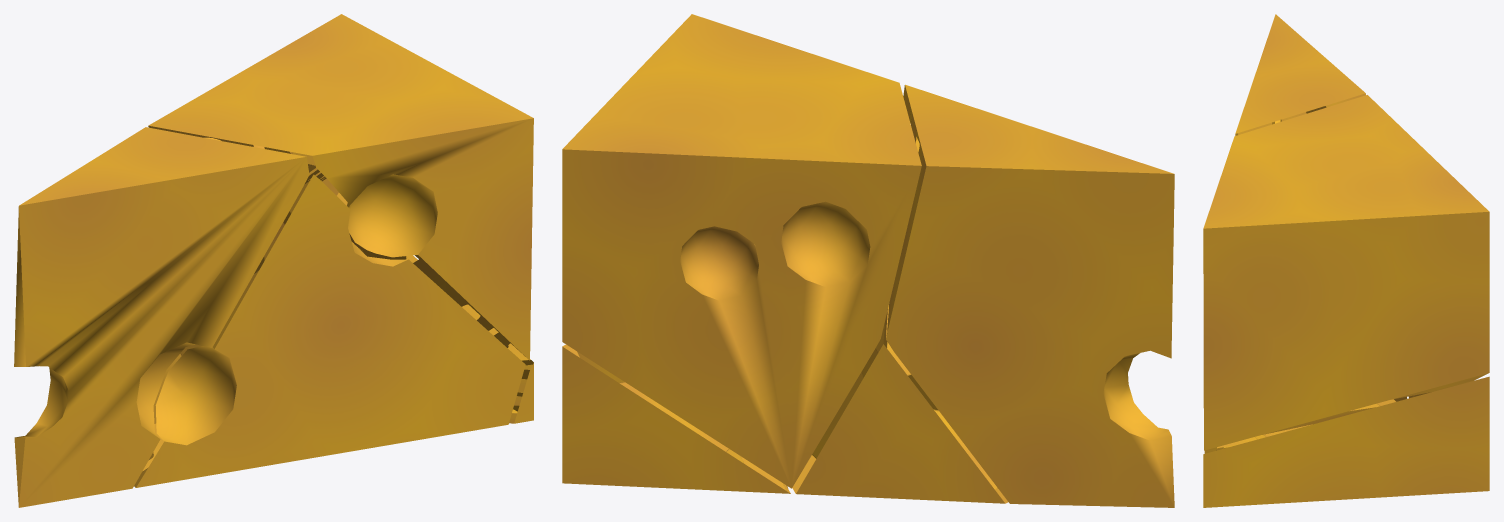
Rendered from cheese.fbx.
3 views of the same model, side by side, from view 1: azimuth 30°, elevation 25°; view 2: azimuth 150°, elevation 25°; view 3: azimuth 270°, elevation 25° (orthographic). The views are drawn at different scales.
Visible parts, largest first — view 1: Cheese_cell.003, Cheese_cell.001, Cheese_cell, Cheese_cell.002; view 2: Cheese_cell, Cheese_cell.003, Cheese_cell.001, Cheese_cell.002; view 3: Cheese_cell, Cheese_cell.002, Cheese_cell.003.
Part boxes in pixels (x1,y1,x2,y2): Cheese_cell.003: (14, 127, 309, 507); Cheese_cell.001: (134, 174, 525, 487); Cheese_cell: (148, 14, 533, 360); Cheese_cell.002: (371, 252, 533, 423); Cheese_cell: (562, 14, 921, 488); Cheese_cell.003: (886, 84, 1174, 507); Cheese_cell.001: (792, 309, 1007, 503); Cheese_cell.002: (562, 344, 790, 493); Cheese_cell: (1203, 95, 1489, 450); Cheese_cell.002: (1203, 376, 1489, 507); Cheese_cell.003: (1235, 14, 1365, 135).
Bounding box in the file's own units: 31.16 × 18.87 × 17.52.
